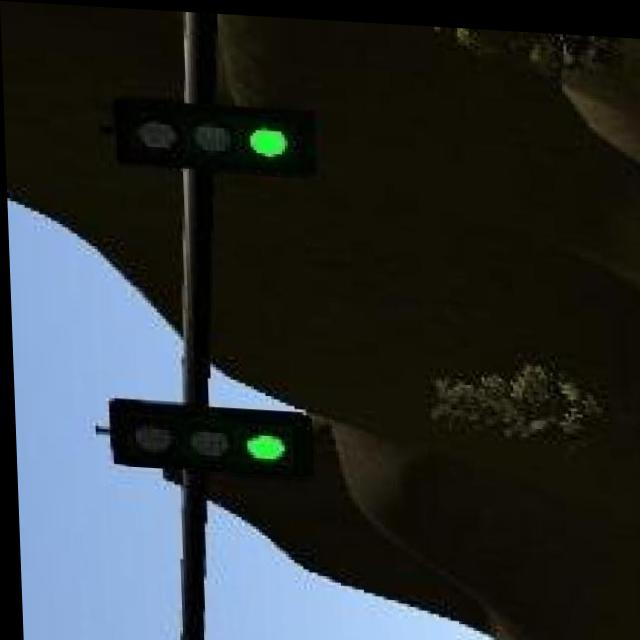green light: (107, 401, 308, 468), (123, 103, 312, 168)
